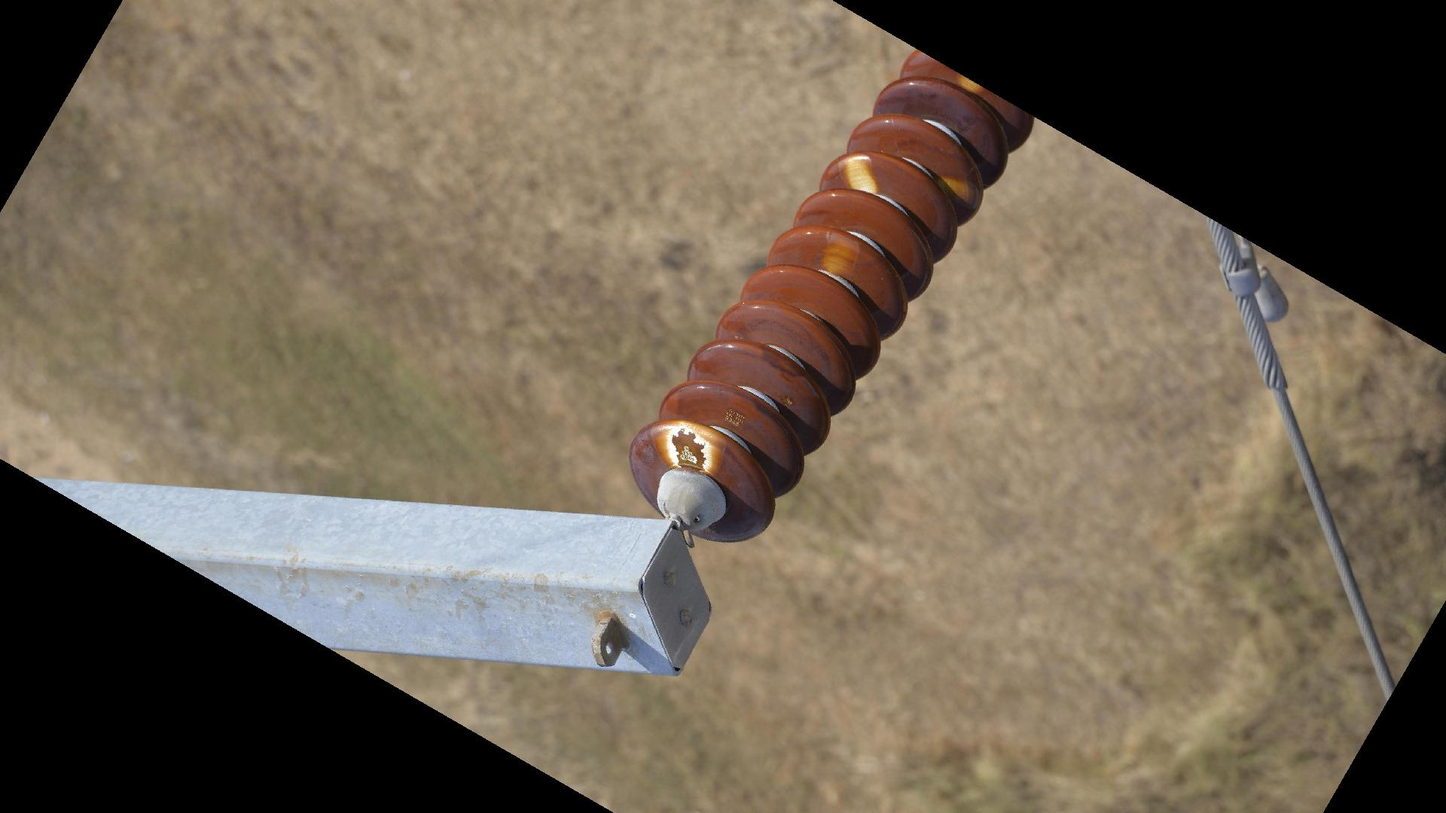insulator: (624, 42, 1038, 550)
insulator_flashover: (650, 417, 725, 477), (819, 225, 863, 282), (836, 151, 883, 196), (935, 174, 983, 213)
